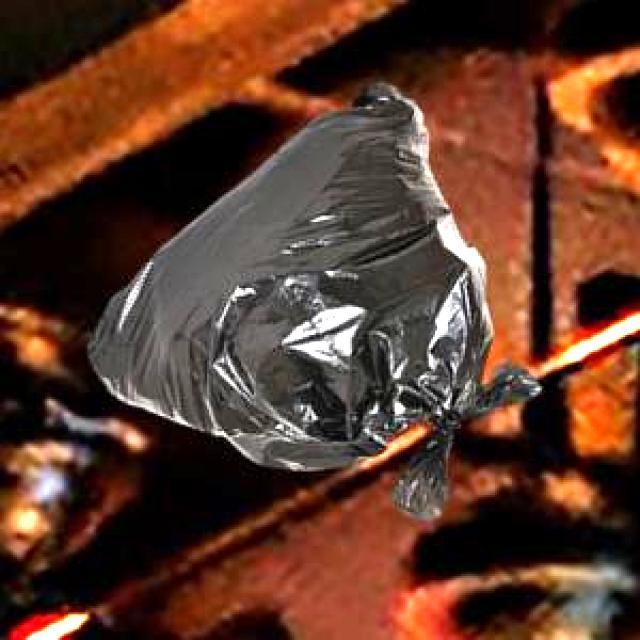Garbage_Bag: (84, 80, 539, 518)
